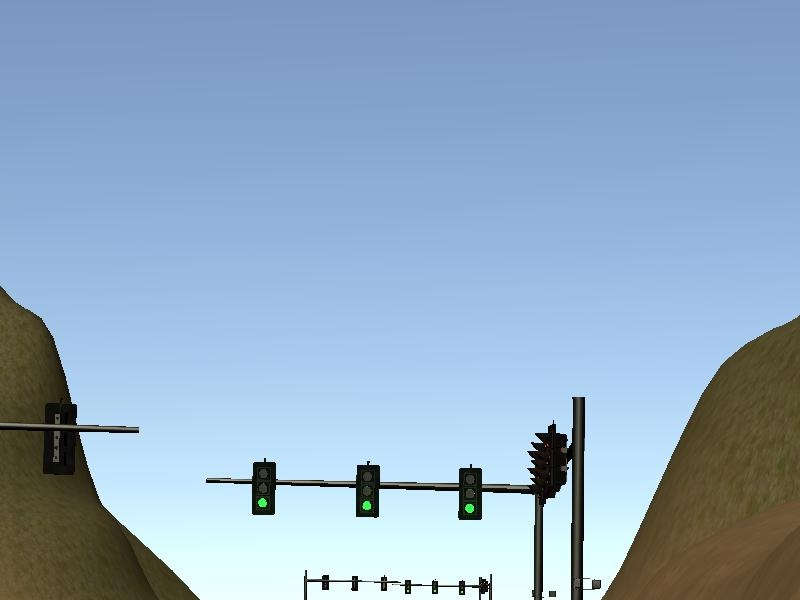traffic_light_green: (226, 459, 536, 521)
